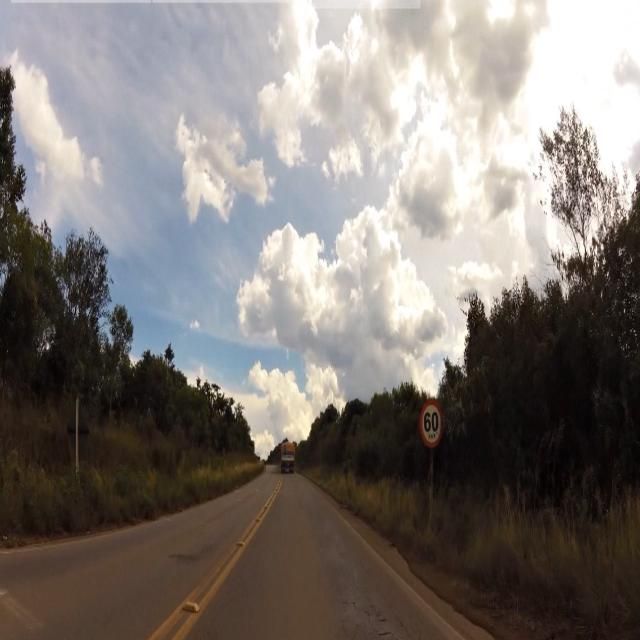R-19: (421, 400, 442, 444)
